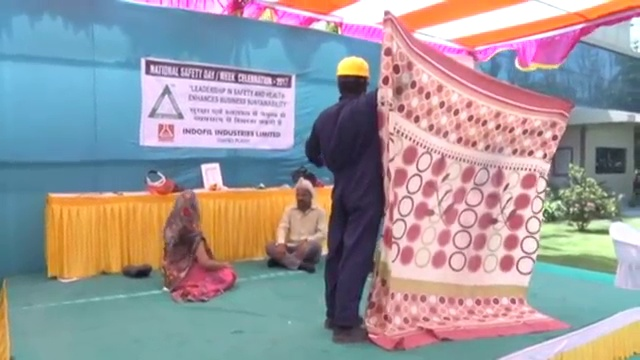helmet: (333, 53, 370, 79)
helmet_off: (171, 188, 202, 220), (293, 177, 316, 211)
helmet_on: (334, 56, 372, 100)
person: (306, 52, 379, 341), (161, 186, 236, 304), (267, 177, 327, 271)
